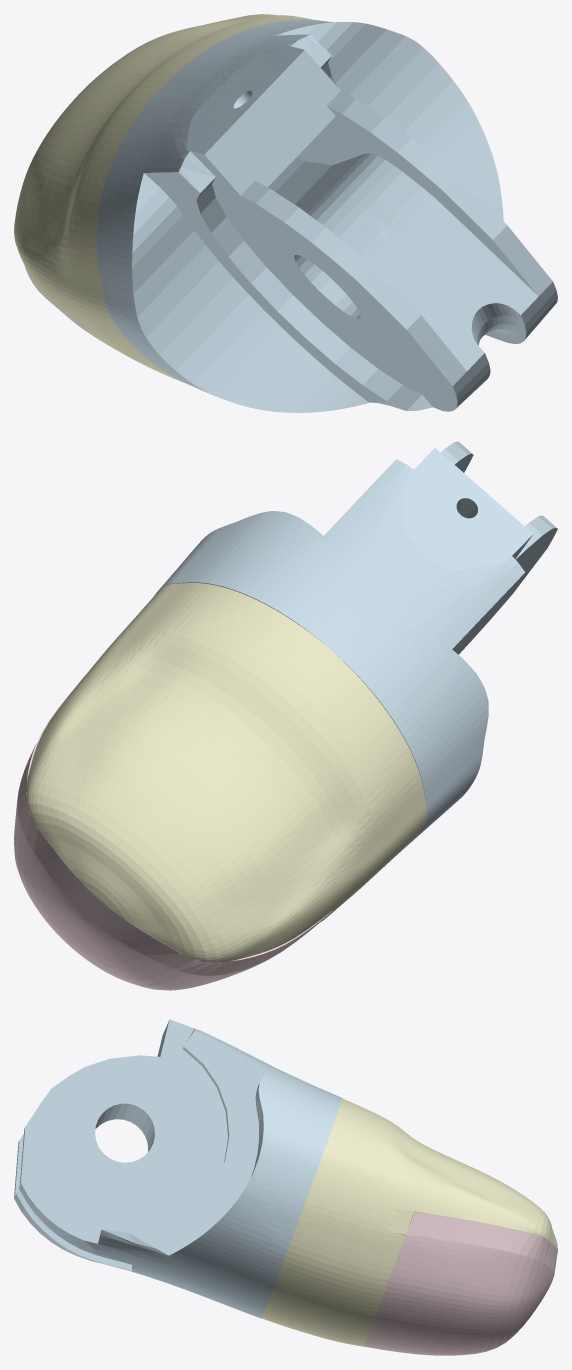
File: i02_rightHand_pinkyTip_visual.obj.full.glb
3 renders of one model, top to bottom at view 1: azimuth 30°, elevation 25°; view 2: azimuth 150°, elevation 25°; view 3: azimuth 270°, elevation 25°, orthographic. The views are drawn at different scales.
Bounding box in the file's own units: 0.1654 × 0.1995 × 0.3261.
